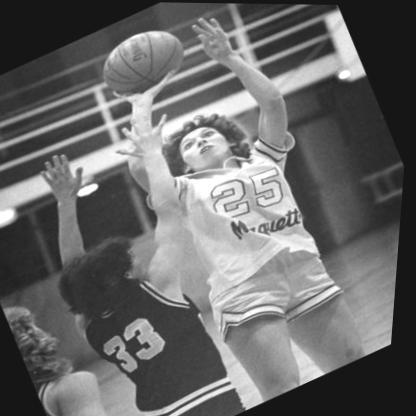basketball: (92, 17, 200, 111)
